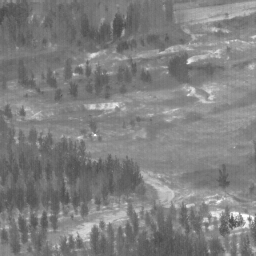aircraft: (94, 134, 96, 136)
